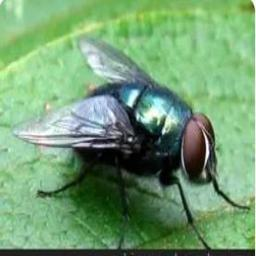liriomyza: (8, 32, 251, 255)
